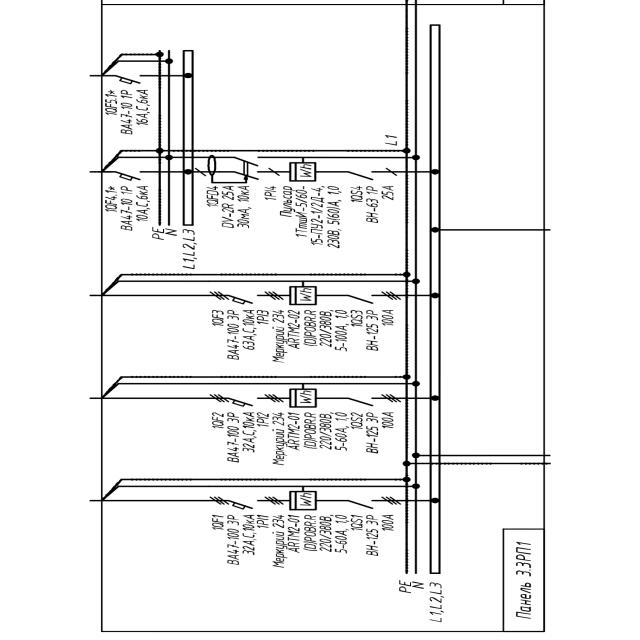-: (270, 308, 349, 366), (271, 512, 350, 569), (280, 182, 344, 250), (272, 412, 350, 466), (226, 512, 270, 566), (226, 307, 269, 361), (510, 539, 538, 621), (226, 410, 270, 462), (220, 182, 252, 230), (364, 306, 396, 354), (120, 182, 150, 232), (120, 86, 150, 136), (364, 409, 395, 456), (366, 512, 395, 562), (366, 184, 396, 224)
QF: (227, 290, 259, 306), (228, 392, 260, 408), (228, 496, 260, 511), (114, 168, 144, 182), (114, 71, 144, 85)
QFD: (205, 154, 263, 184)
QS: (342, 496, 377, 510), (343, 394, 378, 408), (344, 292, 378, 306), (346, 167, 376, 180)
WH: (288, 284, 318, 306), (288, 387, 318, 408), (288, 490, 318, 511), (288, 160, 316, 182)
